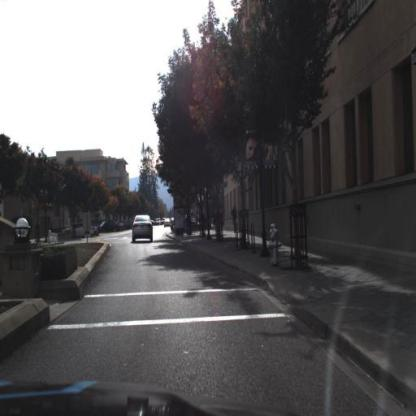car: (59, 220, 93, 243), (132, 214, 155, 246)
pedestrian: (229, 204, 240, 238)
